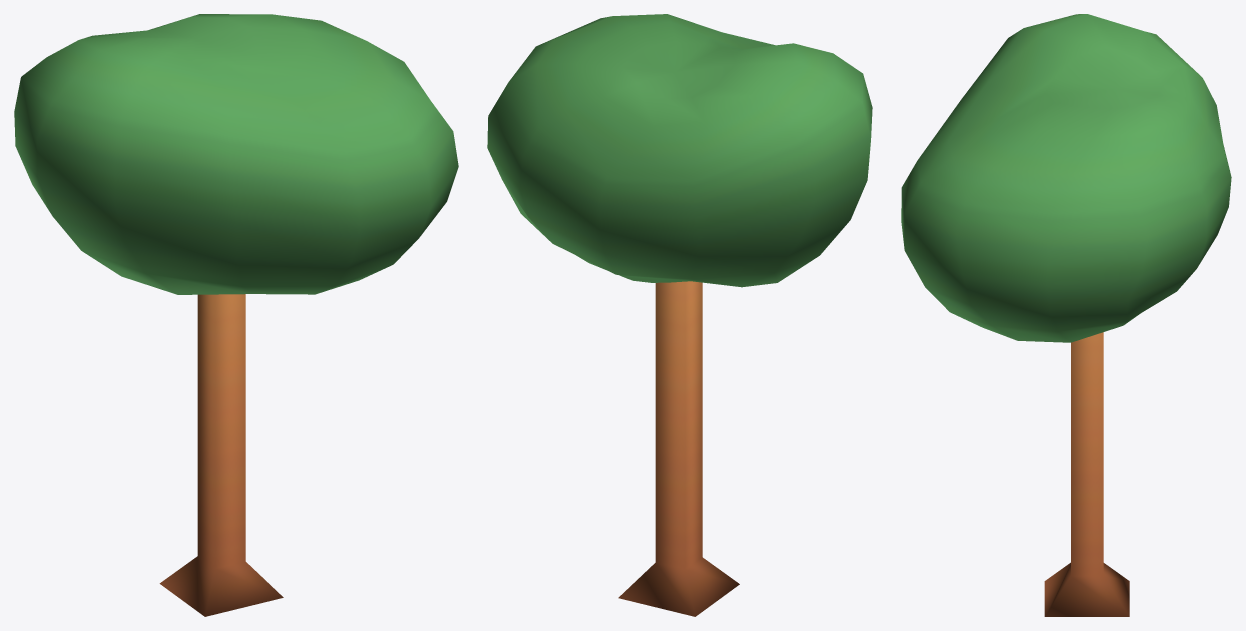
File: Tree_2.fbx
3 views of the same model, side by side, from view 1: azimuth 30°, elevation 25°; view 2: azimuth 150°, elevation 25°; view 3: azimuth 270°, elevation 25° (orthographic). The views are drawn at different scales.
Visible parts, largest first — view 1: Tree_2; view 2: Tree_2; view 3: Tree_2.
Part boxes in pixels (bbox=[...]): Tree_2: bbox=[14, 14, 458, 616]; Tree_2: bbox=[487, 14, 872, 616]; Tree_2: bbox=[901, 14, 1231, 616].
Size of the model in its own units: 117 by 169 by 95.22.
